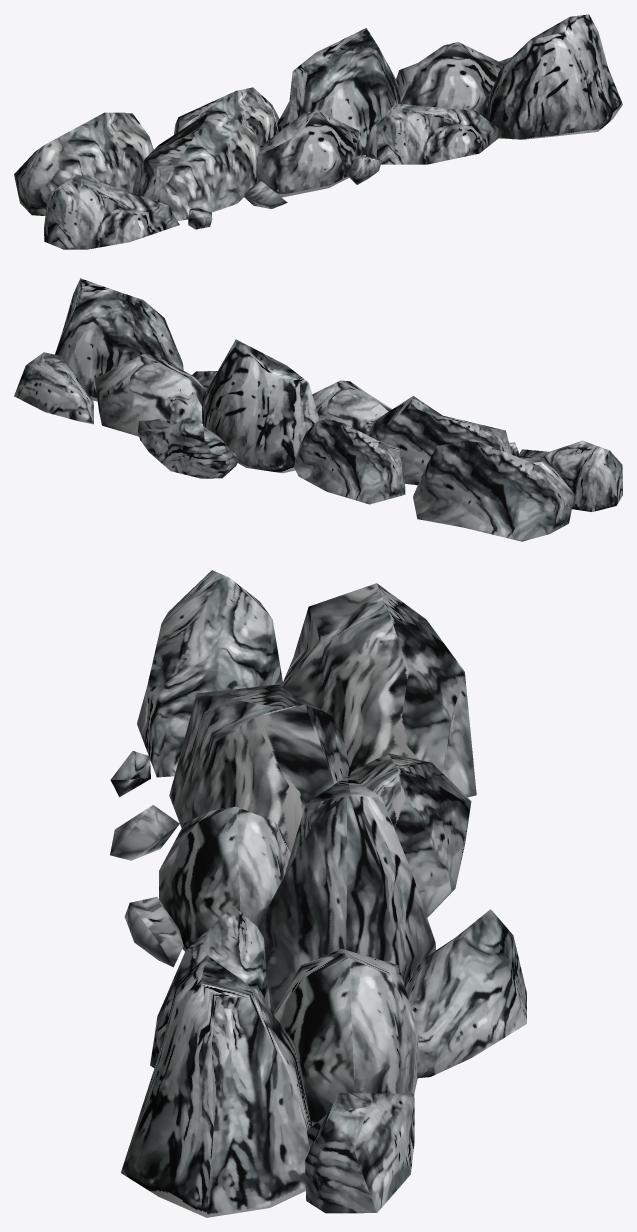
File: STR_WallBoulderB.FBX
3 views of the same model, one above another, from view 1: azimuth 30°, elevation 25°; view 2: azimuth 150°, elevation 25°; view 3: azimuth 270°, elevation 25° (orthographic). The views are drawn at different scales.
Parts seen in each view (by area): view 1: STR_WallBoulderB; view 2: STR_WallBoulderB; view 3: STR_WallBoulderB.
Part boxes in pixels (x1=…): STR_WallBoulderB: x1=14, y1=14, x2=622, y2=249; STR_WallBoulderB: x1=14, y1=278, x2=622, y2=541; STR_WallBoulderB: x1=110, y1=570, x2=526, y2=1217.
Bounding box in the file's own units: 1287 × 225 × 409.
